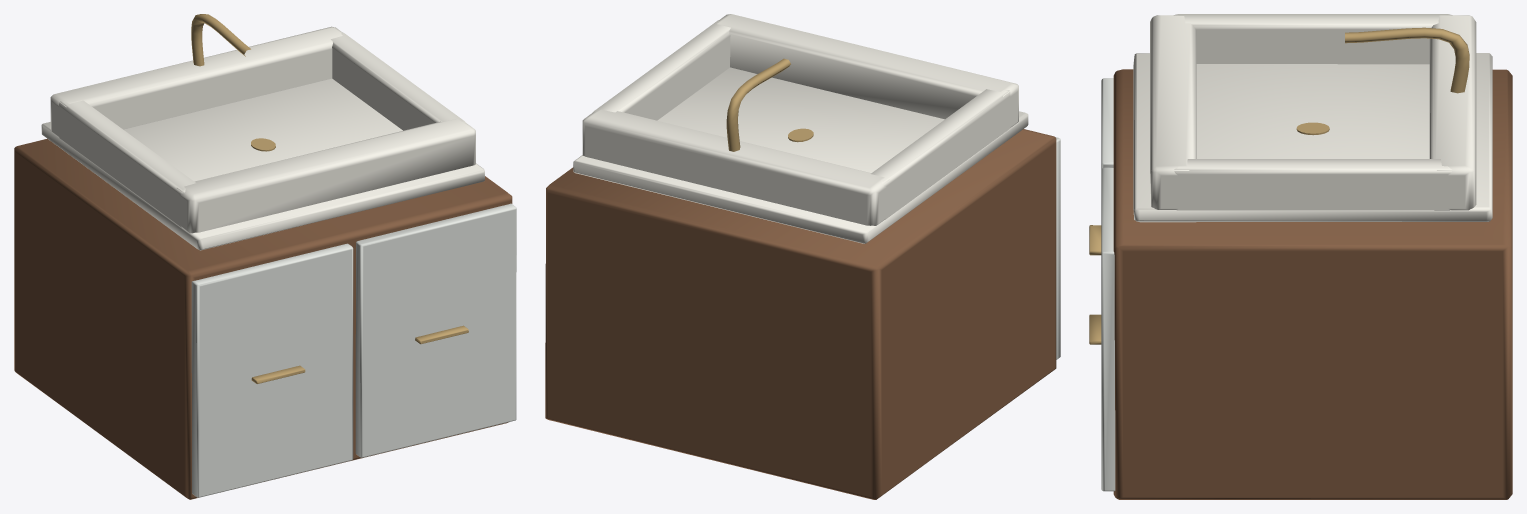
The model's file is sink-7-0.lod.glb.
3 renders of one model, left to right at view 1: azimuth 30°, elevation 25°; view 2: azimuth 150°, elevation 25°; view 3: azimuth 270°, elevation 25°, orthographic. The views are drawn at different scales.
Visible parts, largest first — view 1: upholstery (×4); view 2: upholstery (×4); view 3: upholstery (×4).
Boxes of the visible parts, x1,y1,x2,y2 form: upholstery (×4): (14,14,516,499); upholstery (×4): (545,14,1060,499); upholstery (×4): (1089,14,1512,499).
Bounding box in the file's own units: 1 × 1 × 1.
